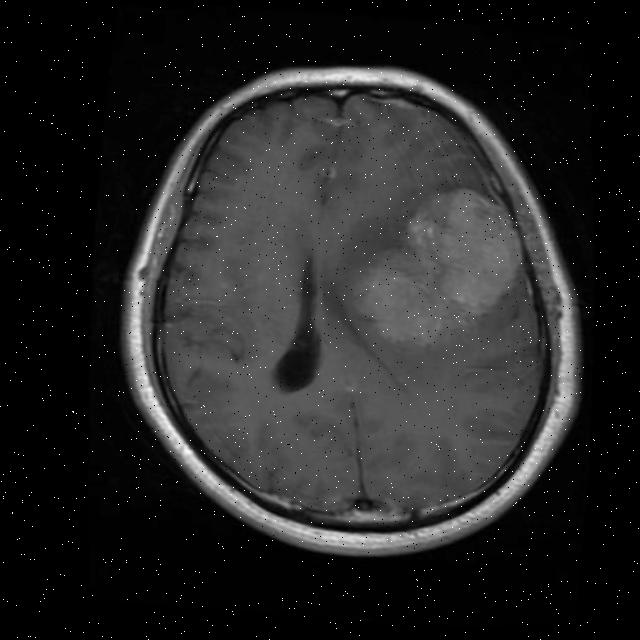Meningioma: (338, 170, 537, 358)
